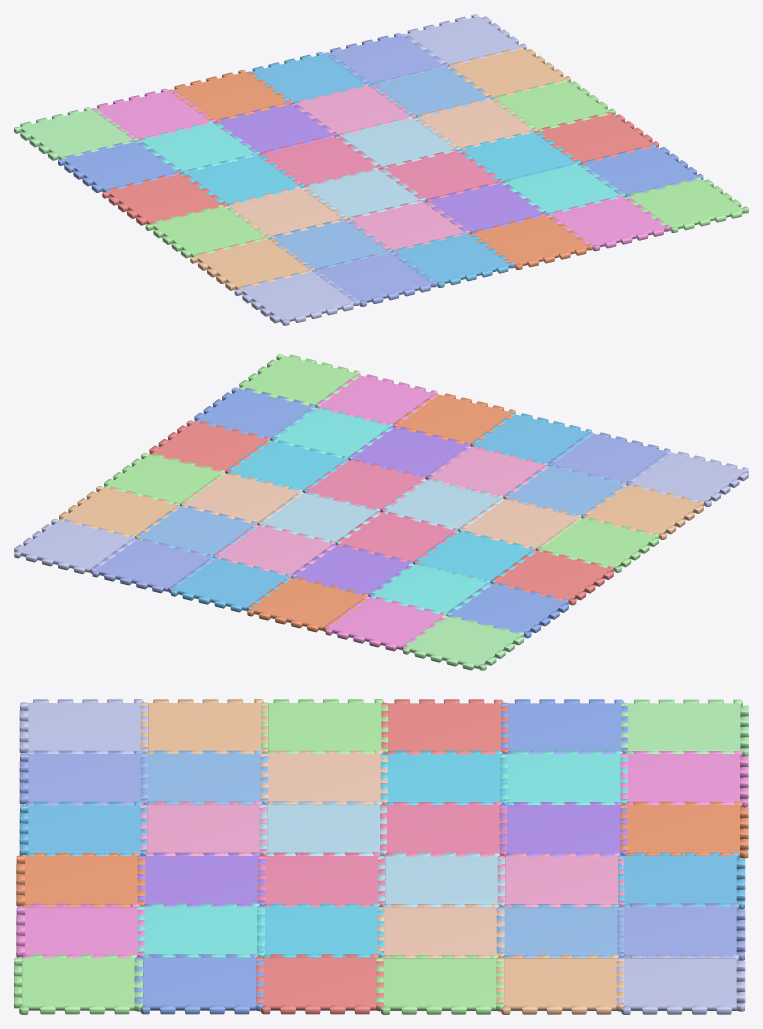
File: kid carpet.fbx
3 renders of one model, top to bottom at view 1: azimuth 30°, elevation 25°; view 2: azimuth 150°, elevation 25°; view 3: azimuth 270°, elevation 25°, orthographic. The views are drawn at different scales.
Parts seen in each view (by area): view 1: 2.029; view 2: 2.029; view 3: 2.029.
Part boxes in pixels (x1,y1,x2,y2): 2.029: (14, 14, 748, 325); 2.029: (14, 354, 748, 670); 2.029: (14, 699, 748, 1014).
Bounding box in the file's own units: 589 × 4.75 × 589.
